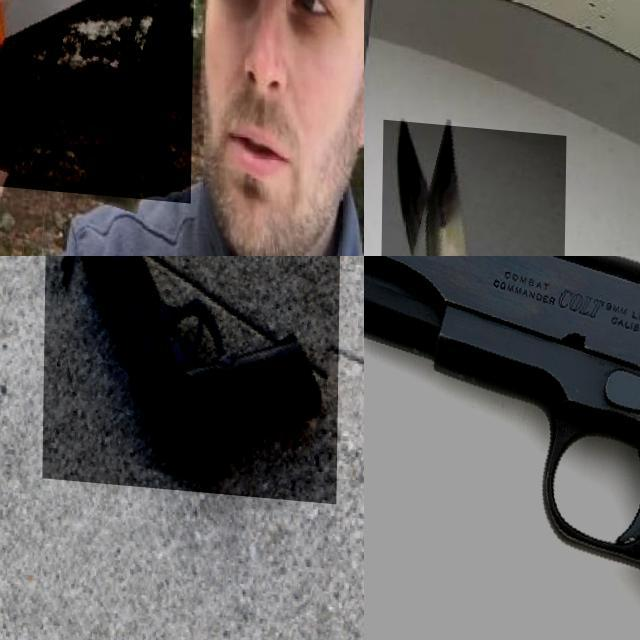-: (0, 0, 196, 196), (379, 116, 566, 256)
gun-knife-thesis - v11 Yolov5 augmented: (364, 256, 640, 640), (43, 256, 340, 495)
